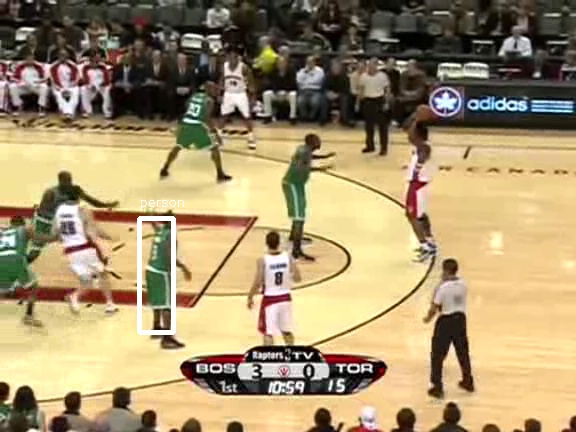person: (145, 229, 179, 310), (144, 229, 178, 310), (146, 229, 180, 310), (145, 228, 179, 309), (145, 230, 179, 311)
target_negative: (146, 107, 214, 406), (416, 71, 521, 253), (77, 387, 441, 417), (390, 367, 566, 389), (511, 211, 570, 260), (539, 412, 562, 414)
